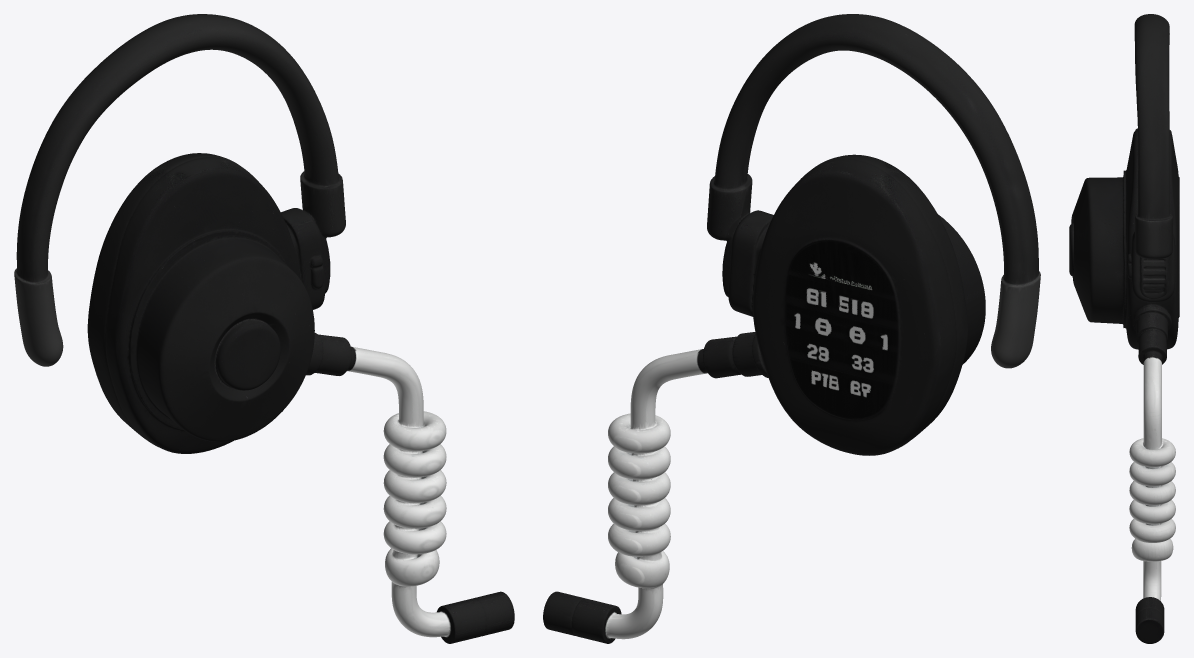
The model's file is Meshy_AI_Black_over_ear_headse_0512102245_texture.fbx.
3 views of the same model, side by side, from view 1: azimuth 30°, elevation 25°; view 2: azimuth 150°, elevation 25°; view 3: azimuth 270°, elevation 25° (orthographic). The views are drawn at different scales.
Parts seen in each view (by area): view 1: Mesh_0; view 2: Mesh_0; view 3: Mesh_0.
Boxes of the visible parts, x1,y1,x2,y2 form: Mesh_0: (14, 14, 514, 643); Mesh_0: (543, 14, 1040, 643); Mesh_0: (1069, 14, 1179, 643).
Bounding box in the file's own units: 140 × 190 × 37.54.
Materials: 1 (1 with a texture image).
